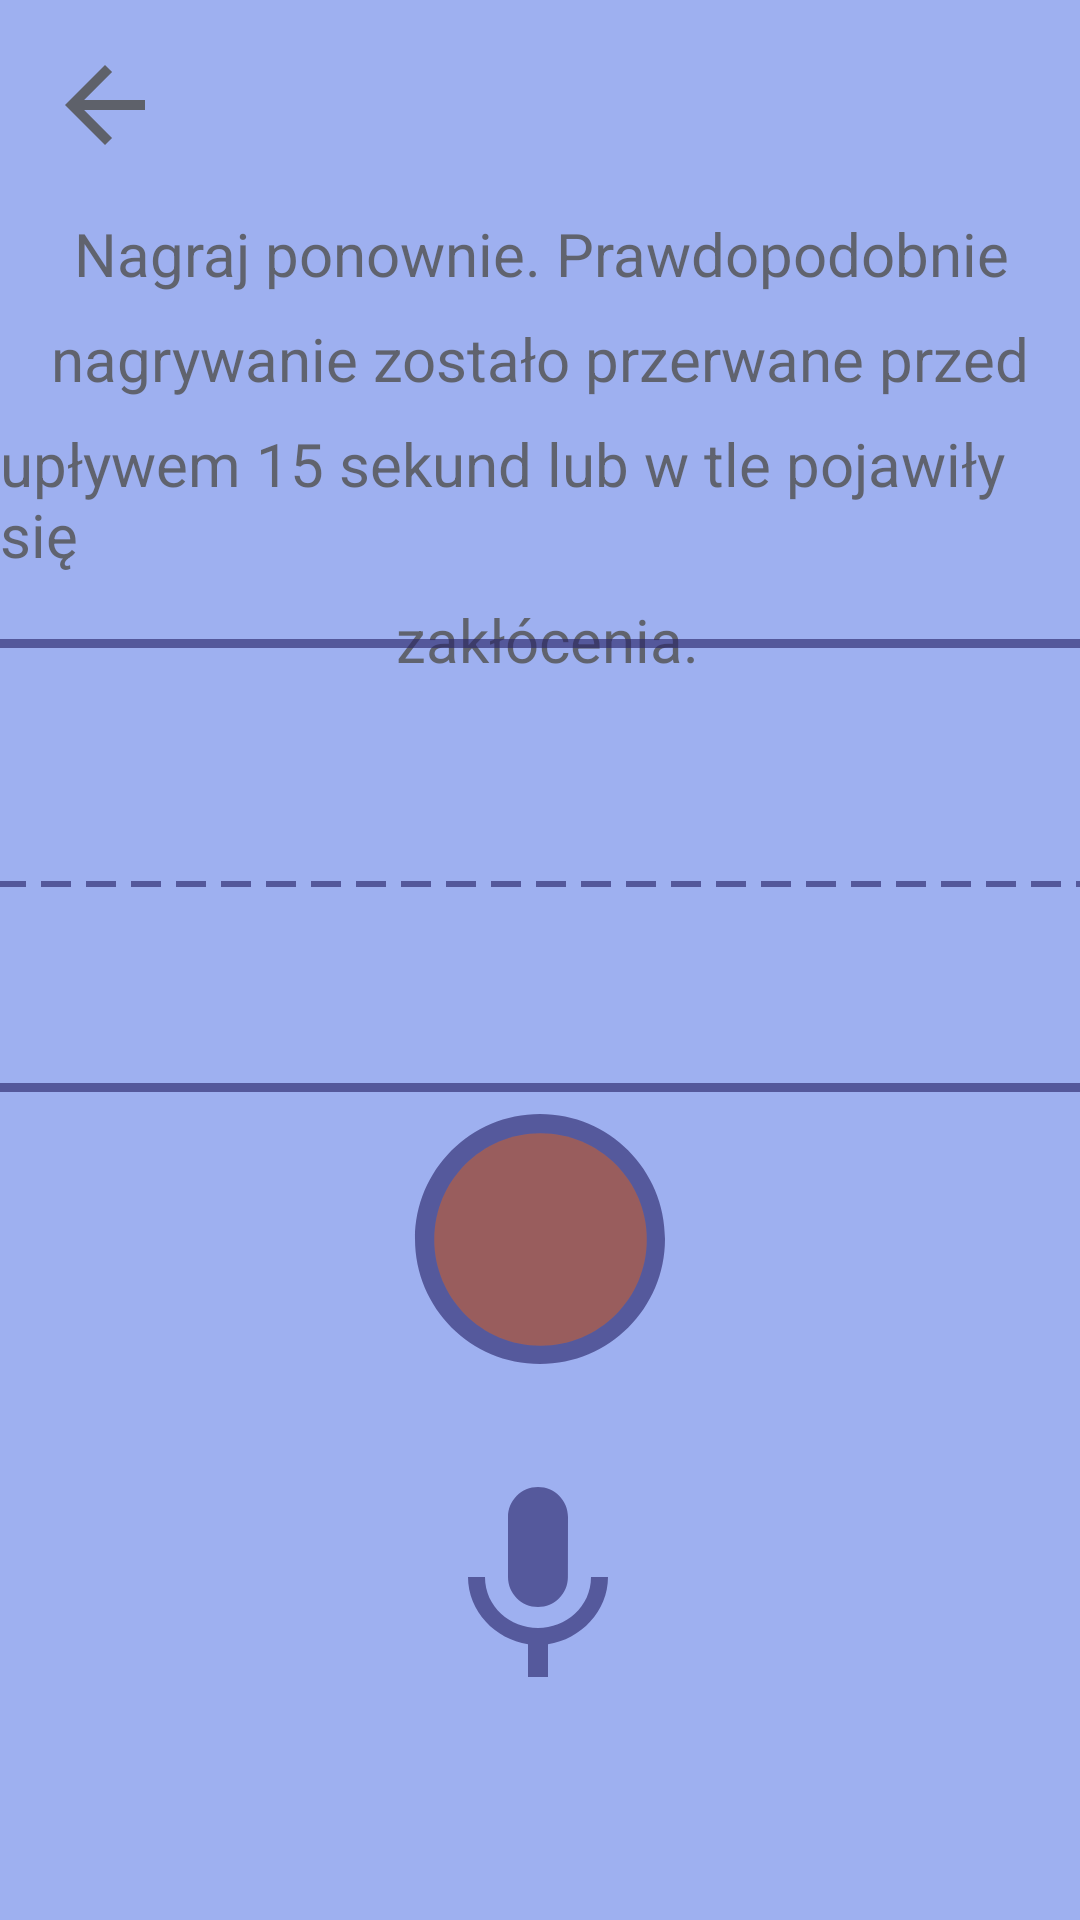

Where to tap for icons on this 1080x1920 app screen, as [x,y]:
arrow back: [105,105]
microphone: [538,1582]
